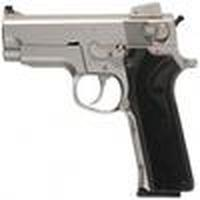gun: (1, 6, 196, 199)
